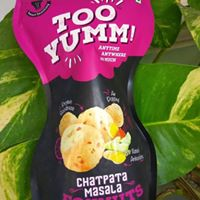plastic: (18, 1, 158, 200)
tooyumm: (44, 6, 124, 52)
wrapper: (33, 3, 148, 194)
